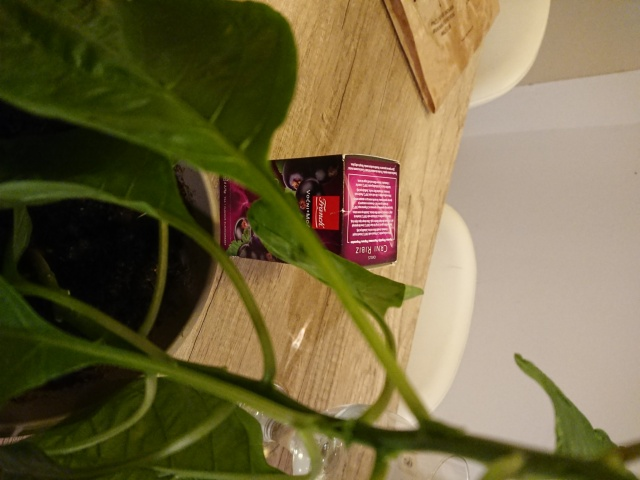Franck Black Currant Tea 60g: (216, 151, 403, 272)
